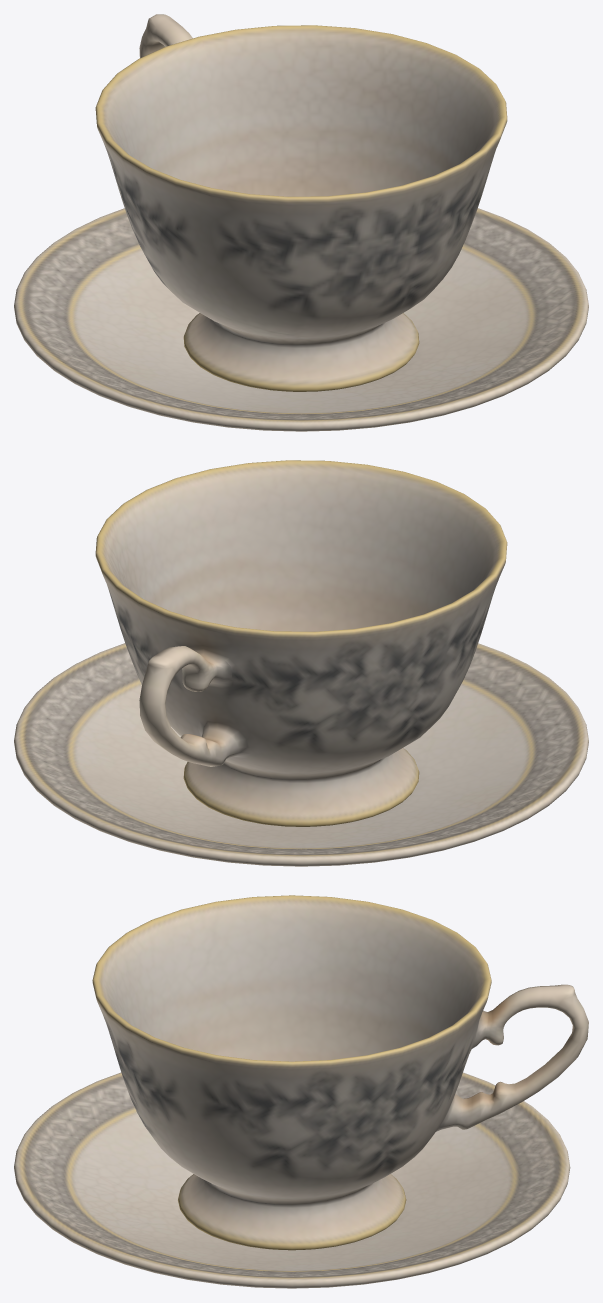
File: teacup.gltf
3 views of the same model, one above another, from view 1: azimuth 30°, elevation 25°; view 2: azimuth 150°, elevation 25°; view 3: azimuth 270°, elevation 25° (orthographic). The views are drawn at different scales.
Parts seen in each view (by area): view 1: tea_set_01_cup_small_02, tea_set_01_saucer_circular_03; view 2: tea_set_01_cup_small_02, tea_set_01_saucer_circular_03; view 3: tea_set_01_cup_small_02, tea_set_01_saucer_circular_03.
Part boxes in pixels (x1=…): tea_set_01_cup_small_02: x1=95, y1=14, x2=507, y2=391; tea_set_01_saucer_circular_03: x1=14, y1=208, x2=588, y2=431; tea_set_01_cup_small_02: x1=95, y1=460, x2=507, y2=826; tea_set_01_saucer_circular_03: x1=14, y1=643, x2=588, y2=866; tea_set_01_cup_small_02: x1=92, y1=895, x2=588, y2=1250; tea_set_01_saucer_circular_03: x1=14, y1=1072, x2=570, y2=1288.
Size of the model in its own units: 0.149 by 0.0704 by 0.154.
1 material, 1 textured.
